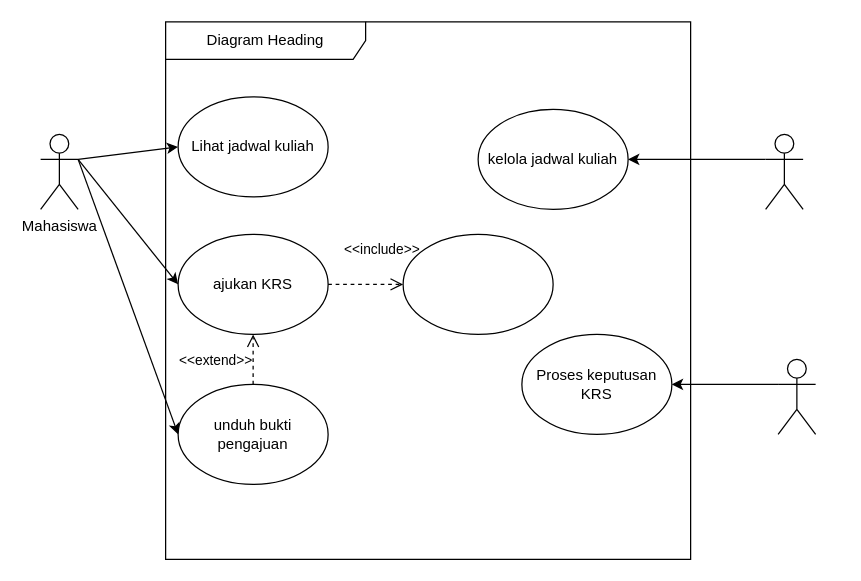
Image size: 861x581. Some labels were removed from this diagram. Each missing label, with the centre of its shape:
Admin Akademik: (x=783, y=171)
Dosen Wali: (x=796, y=396)
Validasi KRS: (x=477, y=283)
